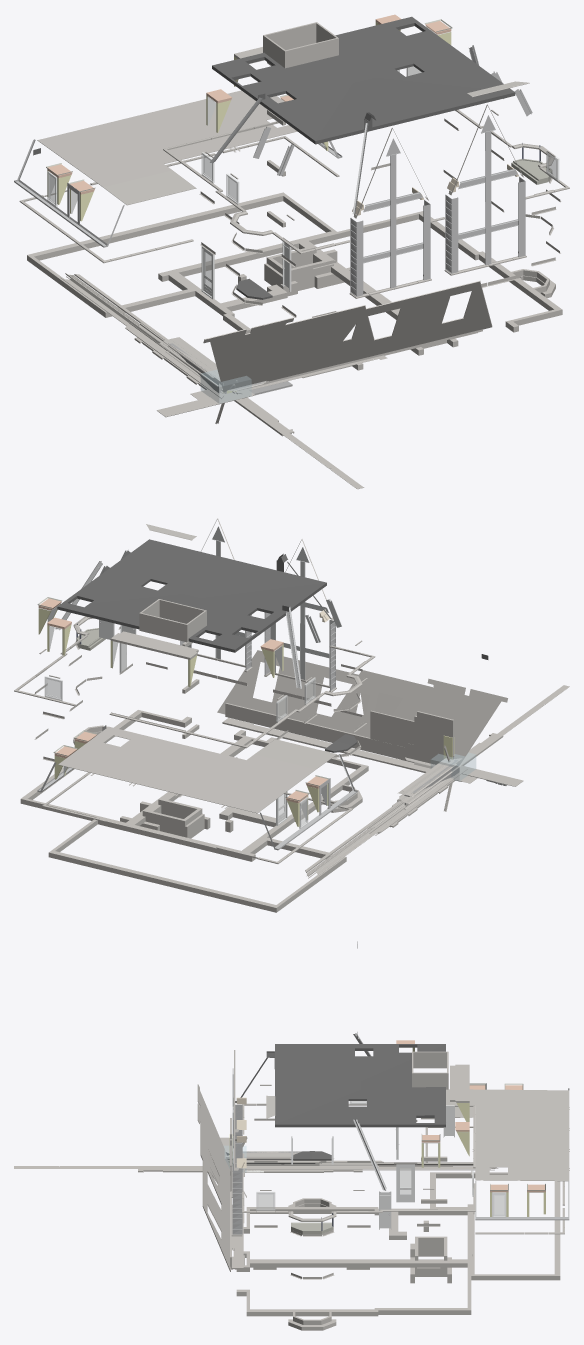
The picture shows the model from 3 angles, top to bottom: view 1: azimuth 30°, elevation 25°; view 2: azimuth 150°, elevation 25°; view 3: azimuth 270°, elevation 25°; orthographic projection. The views are drawn at different scales.
Parts seen in each view (by area): view 1: 18j3O$xcX2Ih_wQkZiN2od, 0OCXCn3OLEJPn9Ben$c09G, 1Gbp9IjqnCH8qFauUzhZdl, 1YsW3XlsH6jQAy3oVokVoI, 073WUmvbzFVP7tMfJQovg6, 0m0_V5iFz0993Gy0YjDTTT, 3hqyh3fov9vxvrX2KulWNx, 2SZgOSofP2PBFS$KAhUxu3, 084MuEGfD4UB54wB7sJMXL, 2N2M5zi3L3ghszlmPoJ3z$, 37_P0I4rjCSP6yY7b9oPCb, 1YU8aaFOD8OPwDOmgEQKhm (+12 smaller); view 2: 18j3O$xcX2Ih_wQkZiN2od, 0OCXCn3OLEJPn9Ben$c09G, 1Gbp9IjqnCH8qFauUzhZdl, 084MuEGfD4UB54wB7sJMXL, 1w_cf5um15YeA5EFxBM09Q, 1YsW3XlsH6jQAy3oVokVoI, 0m0_V5iFz0993Gy0YjDTTT, 03i6tXqM92pRcyXdK4pHfZ, 3hqyh3fov9vxvrX2KulWNx, 2N2M5zi3L3ghszlmPoJ3z$, 02XXlov8DEKQFyDiiYoPhg, 1Y55qRPPPCRhLwNtBw8nIA (+11 smaller); view 3: 18j3O$xcX2Ih_wQkZiN2od, 0OCXCn3OLEJPn9Ben$c09G, 2Ye2fKnjXAEftAAecRMNfV, 1Gbp9IjqnCH8qFauUzhZdl, 2QLBwuZDfEmuESkiT_yymc, 1Y55qRPPPCRhLwNtBw8nIA, 1YsW3XlsH6jQAy3oVokVoI, 1xjGgwmzP23uthLfXurB67, 1HNUZLqr52MQIS8JLIpeyr, 0m0_V5iFz0993Gy0YjDTTT, 2FwhScHlD1lf2P0_fxWpdF, 2SNH8$CzP0tQ4Ndlfu37pR (+6 smaller).
Part boxes in pixels (x1,y1,x2,y2): 18j3O$xcX2Ih_wQkZiN2od: (212, 16, 515, 144); 0OCXCn3OLEJPn9Ben$c09G: (37, 90, 297, 187); 1Gbp9IjqnCH8qFauUzhZdl: (249, 281, 492, 383); 1YsW3XlsH6jQAy3oVokVoI: (245, 305, 377, 382); 073WUmvbzFVP7tMfJQovg6: (214, 323, 315, 384); 0m0_V5iFz0993Gy0YjDTTT: (27, 192, 286, 262); 3hqyh3fov9vxvrX2KulWNx: (103, 170, 196, 205); 2SZgOSofP2PBFS$KAhUxu3: (213, 333, 277, 389); 084MuEGfD4UB54wB7sJMXL: (212, 322, 296, 389); 2N2M5zi3L3ghszlmPoJ3z$: (230, 308, 367, 389); 37_P0I4rjCSP6yY7b9oPCb: (158, 240, 298, 281); 1YU8aaFOD8OPwDOmgEQKhm: (284, 37, 338, 67); 18j3O$xcX2Ih_wQkZiN2od: (57, 539, 326, 652); 0OCXCn3OLEJPn9Ben$c09G: (58, 726, 315, 813); 1Gbp9IjqnCH8qFauUzhZdl: (217, 650, 427, 734); 084MuEGfD4UB54wB7sJMXL: (424, 685, 496, 758); 1w_cf5um15YeA5EFxBM09Q: (225, 703, 410, 757); 1YsW3XlsH6jQAy3oVokVoI: (325, 670, 441, 737); 0m0_V5iFz0993Gy0YjDTTT: (48, 850, 279, 912); 03i6tXqM92pRcyXdK4pHfZ: (222, 717, 430, 772); 3hqyh3fov9vxvrX2KulWNx: (255, 739, 336, 769); 2N2M5zi3L3ghszlmPoJ3z$: (360, 675, 444, 716); 02XXlov8DEKQFyDiiYoPhg: (328, 670, 442, 737); 1Y55qRPPPCRhLwNtBw8nIA: (110, 631, 198, 659); 18j3O$xcX2Ih_wQkZiN2od: (275, 1044, 445, 1127); 0OCXCn3OLEJPn9Ben$c09G: (460, 1089, 569, 1181); 2Ye2fKnjXAEftAAecRMNfV: (250, 1259, 414, 1267); 1Gbp9IjqnCH8qFauUzhZdl: (202, 1141, 230, 1271); 2QLBwuZDfEmuESkiT_yymc: (246, 1309, 374, 1316); 1Y55qRPPPCRhLwNtBw8nIA: (450, 1064, 469, 1102); 1YsW3XlsH6jQAy3oVokVoI: (200, 1119, 229, 1222); 1xjGgwmzP23uthLfXurB67: (396, 1164, 414, 1202); 1HNUZLqr52MQIS8JLIpeyr: (246, 1207, 374, 1213); 0m0_V5iFz0993Gy0YjDTTT: (554, 1181, 560, 1280); 2FwhScHlD1lf2P0_fxWpdF: (378, 1308, 471, 1314); 2SNH8$CzP0tQ4Ndlfu37pR: (467, 1274, 554, 1280).
Size of what is drawn, in the model's own units: 30.08 by 15.35 by 35.88.
